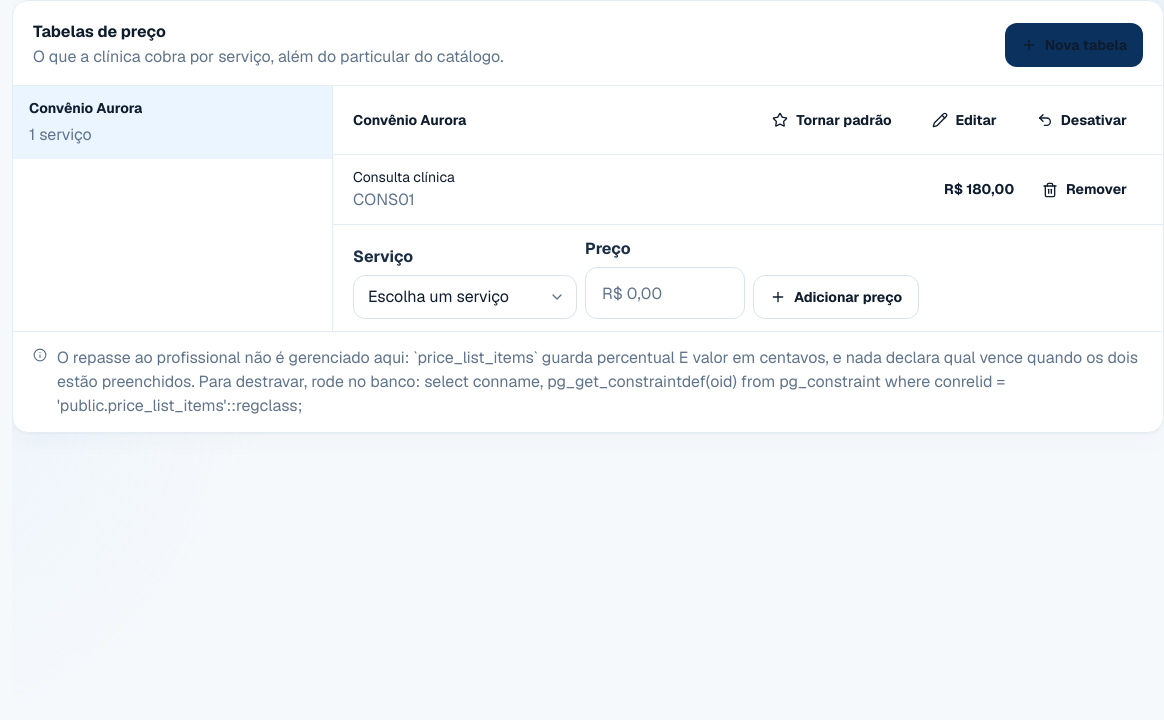
Test: permissão e falhas › a recusa do servidor aparece
The image size is (1164, 720).
Click the button "Tornar padrão" at [832, 120], box [756, 98, 908, 142]
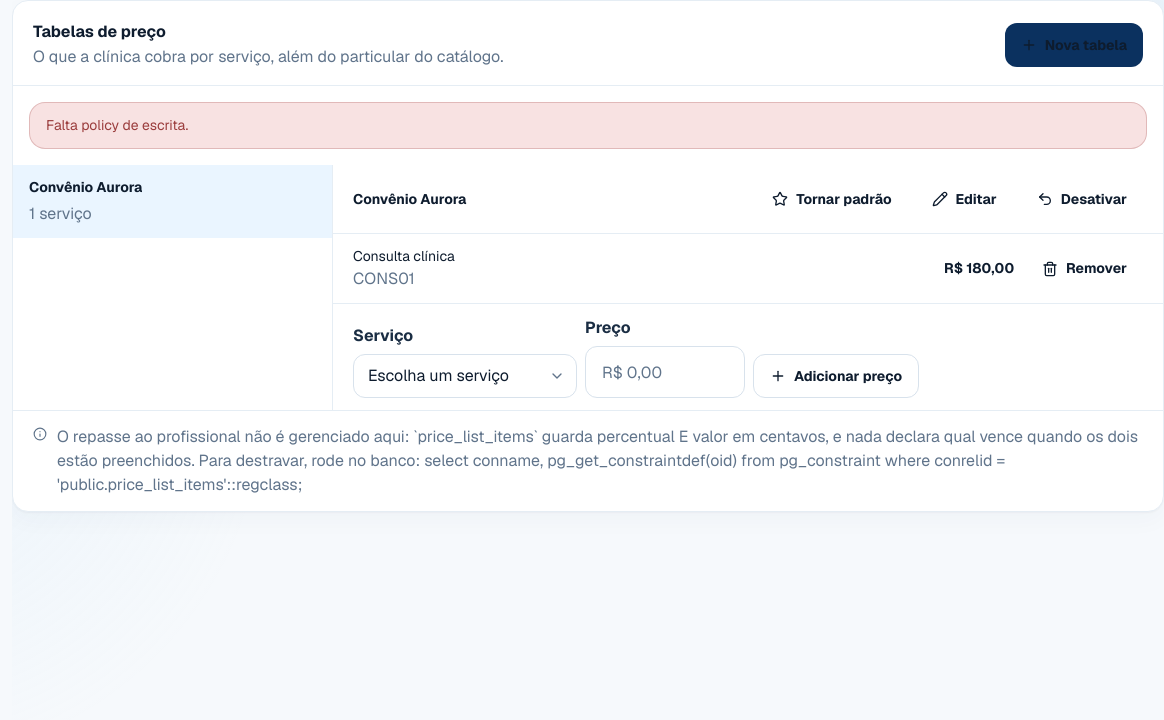
Expected: the message shows "policy", [46, 116, 188, 134]
